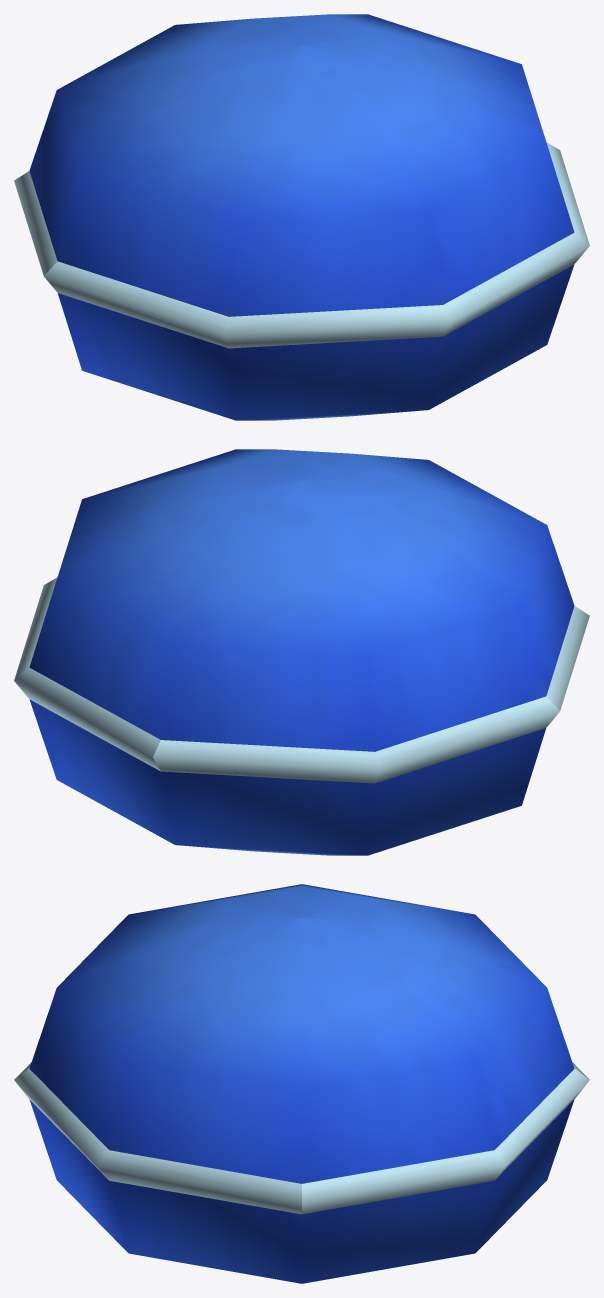
The model's file is Cookie_Macaroon_H.FBX.
3 views of the same model, one above another, from view 1: azimuth 30°, elevation 25°; view 2: azimuth 150°, elevation 25°; view 3: azimuth 270°, elevation 25° (orthographic). The views are drawn at different scales.
Parts seen in each view (by area): view 1: Macaroon; view 2: Macaroon; view 3: Macaroon.
Part boxes in pixels (x1,y1,x2,y2): Macaroon: (14, 14, 589, 420); Macaroon: (14, 449, 589, 855); Macaroon: (14, 884, 589, 1283).
Size of the model in its own units: 27.82 by 17.6 by 27.82.
